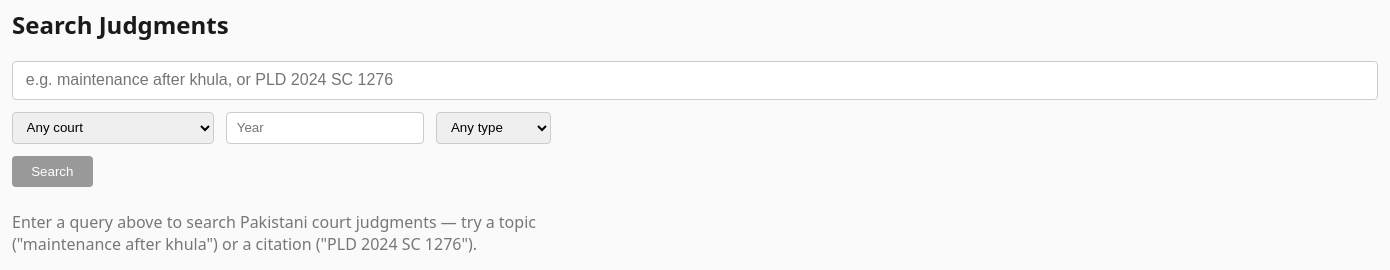
Scenario: shows 'no results' message when search returns empty
This screenshot has width=1390, height=270.
Type "nonexistent query xyz" into the field named "Search query" at (695, 80), box [12,61,1378,100]
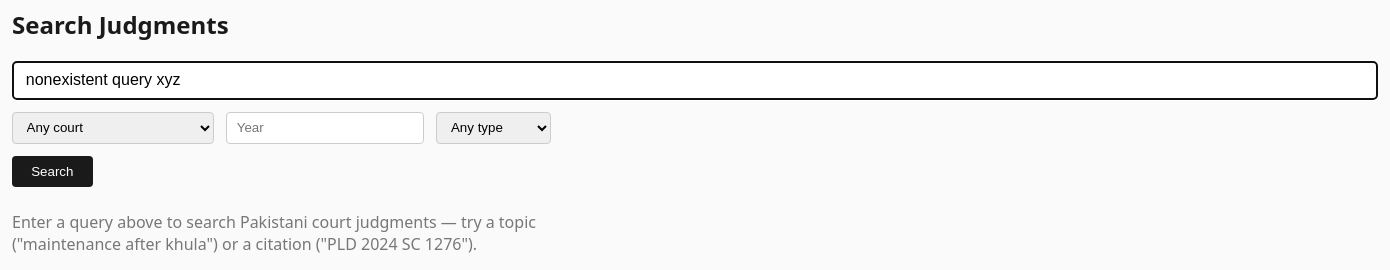
Click the button "Search" at (52, 171), box [12,156,93,187]
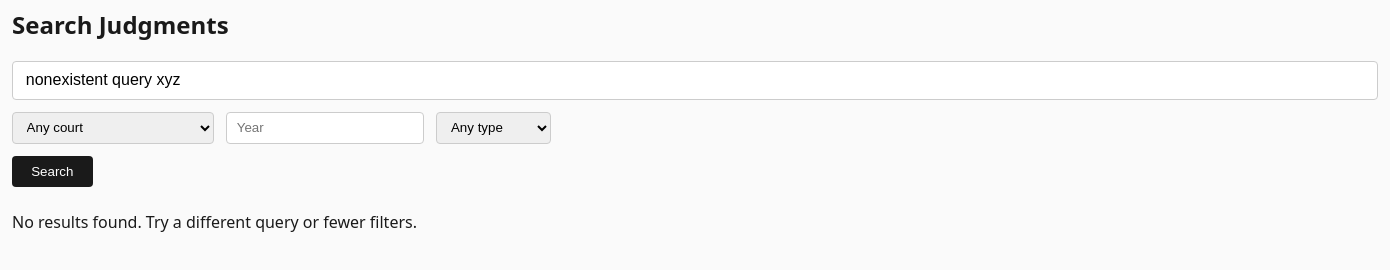
Check: the text "No results found. Try a different query or fewer filters." is shown, box [12,211,417,233]
